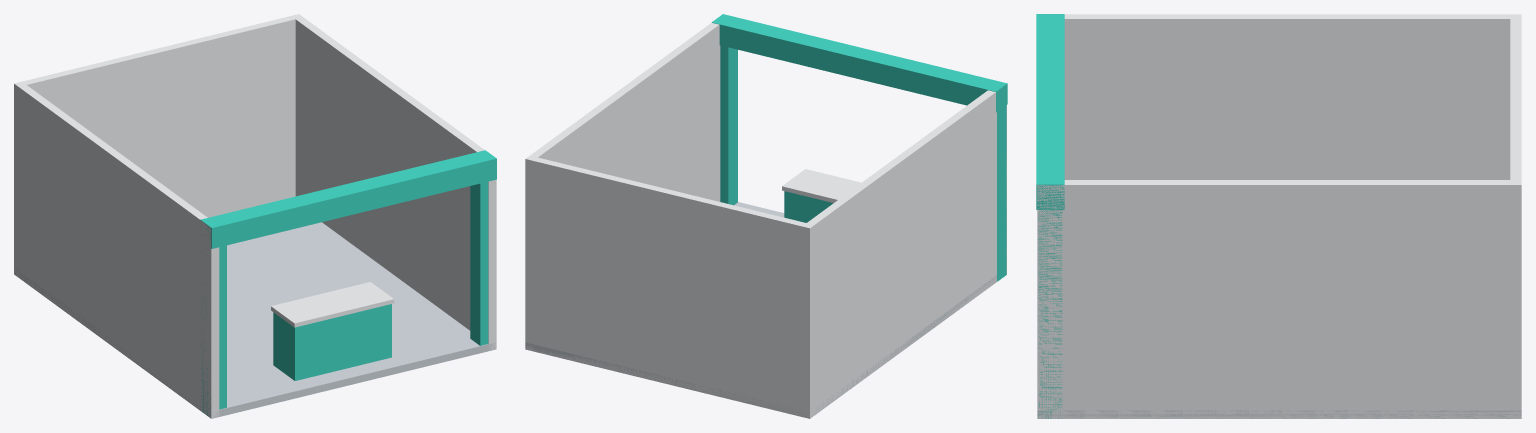
3 renders of one model, left to right at view 1: azimuth 30°, elevation 25°; view 2: azimuth 150°, elevation 25°; view 3: azimuth 270°, elevation 25°, orthographic. The views are drawn at different scales.
Parts seen in each view (by area): view 1: Exhibition Booth Concept; view 2: Exhibition Booth Concept; view 3: Exhibition Booth Concept.
Part boxes in pixels (x1,y1,x2,y2): Exhibition Booth Concept: (14,14,496,418); Exhibition Booth Concept: (525,14,1007,418); Exhibition Booth Concept: (1036,14,1521,418).
Bounding box in the file's own units: 5 × 3.2 × 6.02.
